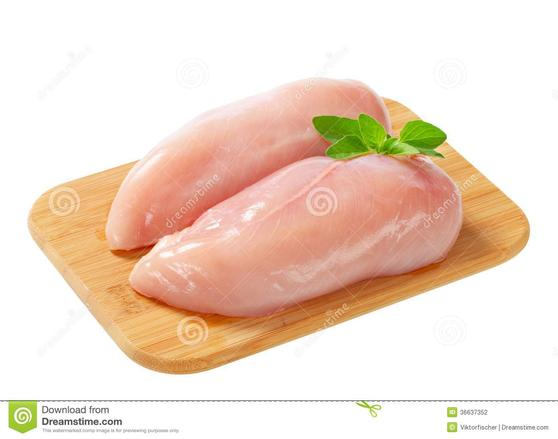chicken_fillet: (130, 147, 477, 322), (103, 82, 389, 243)
